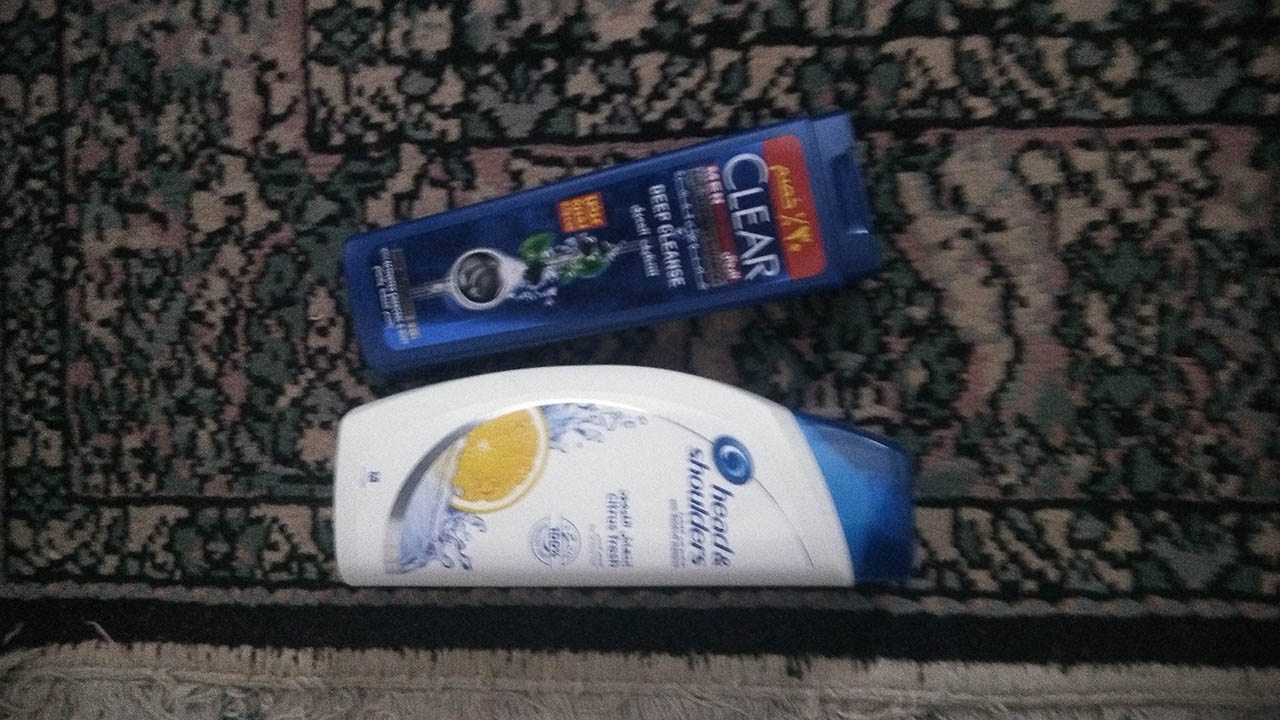Shampoo-Clear 4.7$: (358, 94, 874, 367)
shampoo-Lemon 3.5$: (308, 367, 913, 593)
